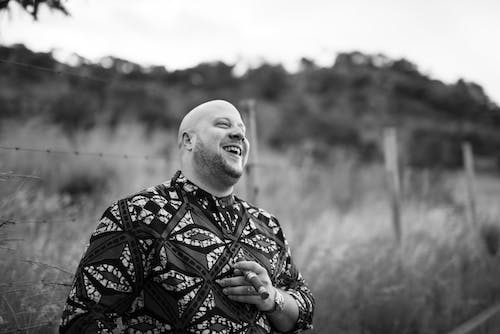cigarette: (241, 263, 270, 301)
